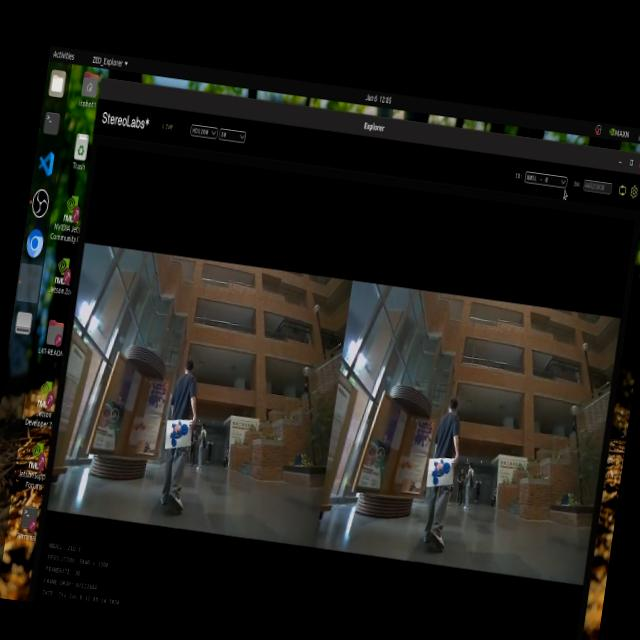blue: (428, 452, 457, 488), (170, 420, 195, 444)
